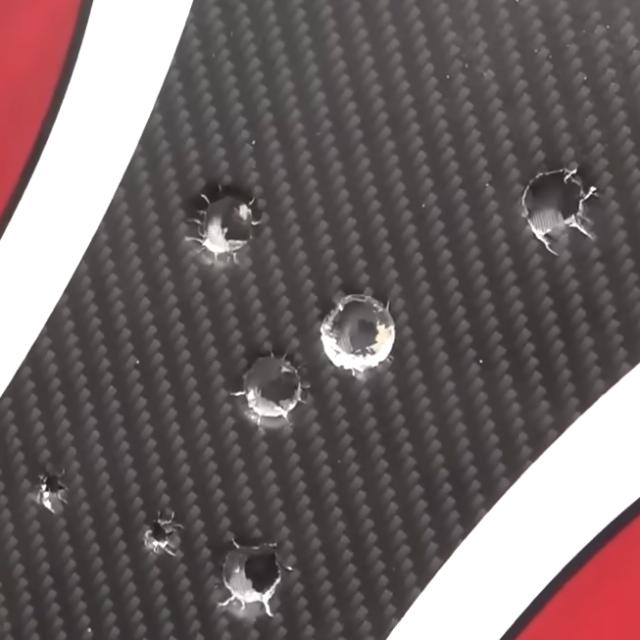bullets: (186, 176, 274, 266), (316, 285, 399, 378), (516, 165, 597, 257), (214, 538, 293, 620), (233, 347, 316, 425), (137, 510, 186, 556), (30, 473, 80, 515)
